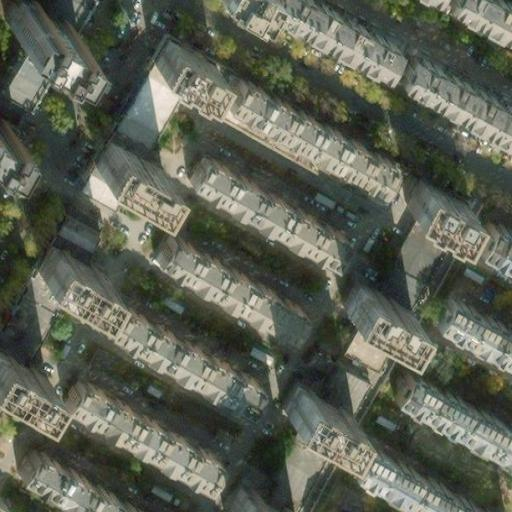building: (304, 198, 506, 512), (318, 0, 512, 111), (222, 80, 392, 196), (179, 151, 340, 262), (59, 378, 214, 484), (73, 58, 182, 208), (99, 304, 251, 411), (147, 233, 298, 336), (386, 366, 512, 462), (395, 53, 512, 146), (339, 439, 479, 512), (13, 450, 135, 512), (279, 357, 356, 453), (370, 215, 444, 310), (428, 288, 512, 363), (333, 281, 407, 341), (88, 145, 160, 204), (33, 254, 104, 311), (0, 40, 54, 113), (397, 177, 465, 234), (266, 379, 335, 435), (146, 31, 211, 86), (454, 0, 512, 47), (206, 476, 281, 512), (336, 319, 384, 369), (471, 217, 512, 265), (41, 0, 85, 33), (244, 474, 282, 505)
